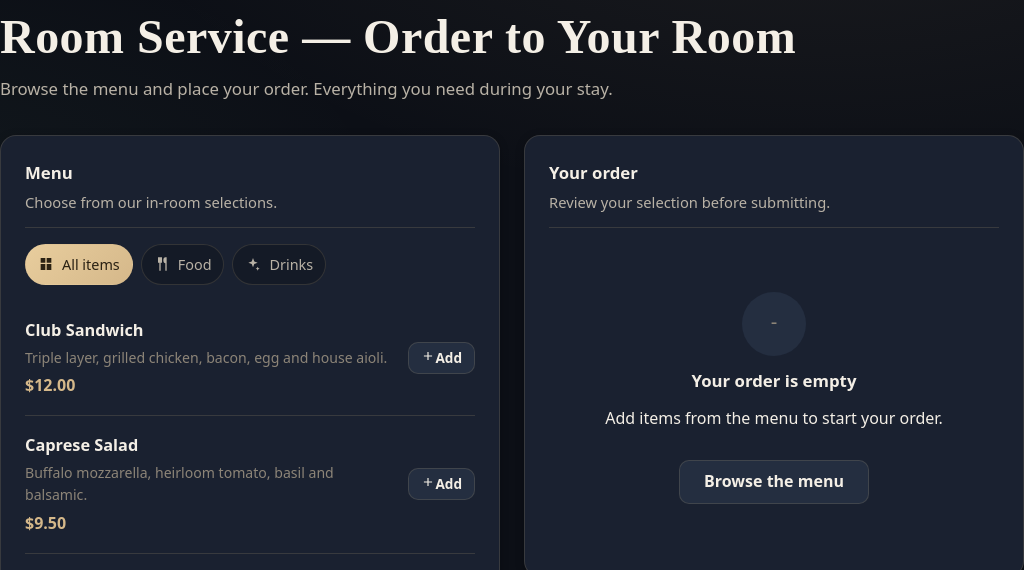
Test case: QRRoomServiceView › shows a confirmation step before submitting
Click the 1st button "Add".
click(442, 358)  # box x1=408 y1=342 x2=475 y2=374
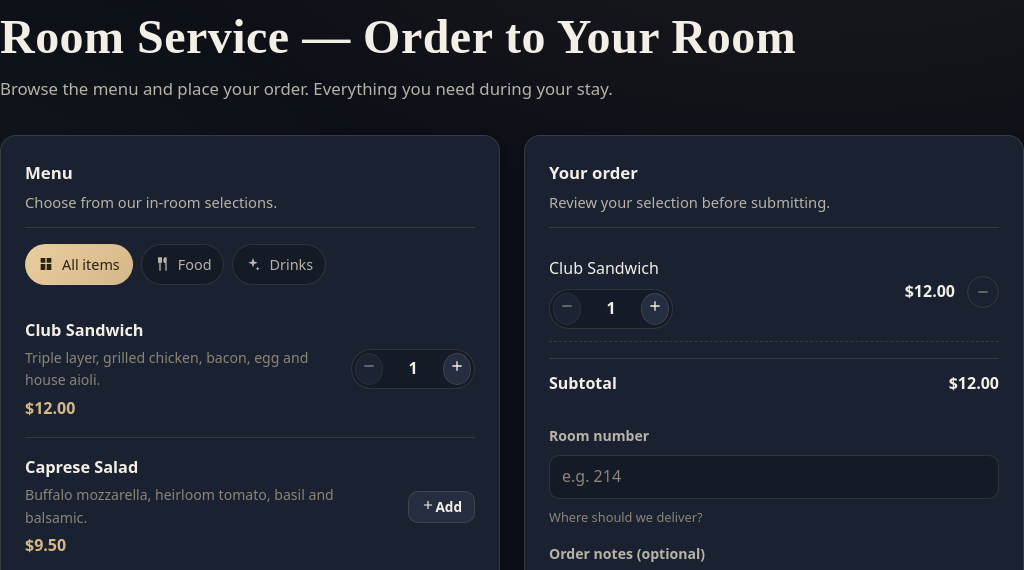
Type "305" into the number field labelled "Room number".
click(774, 477); type("305")  # box x1=549 y1=455 x2=999 y2=499
(page scrolled)
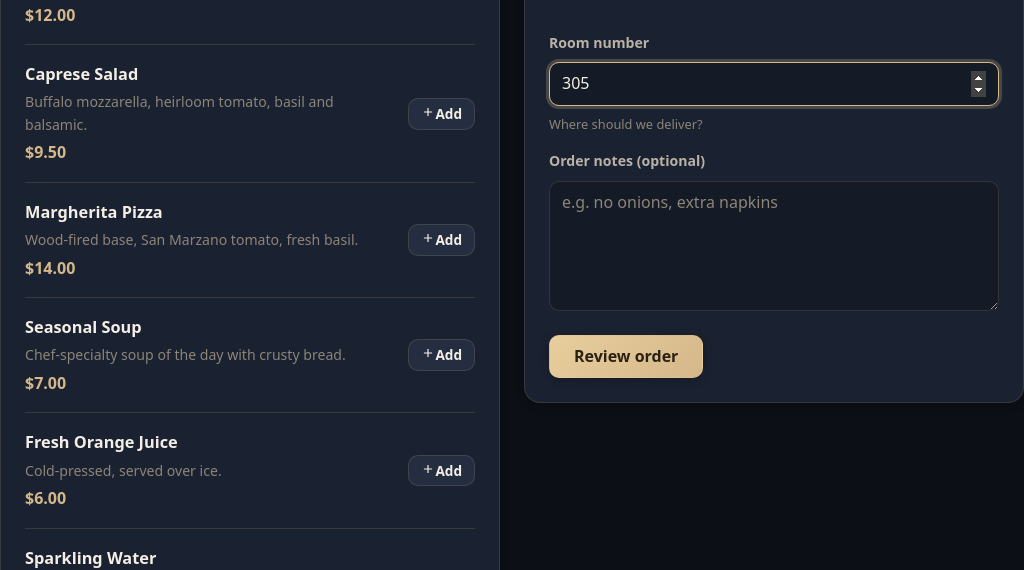
Click the button "Review order".
click(626, 356)  # box x1=549 y1=335 x2=703 y2=378
(page scrolled)
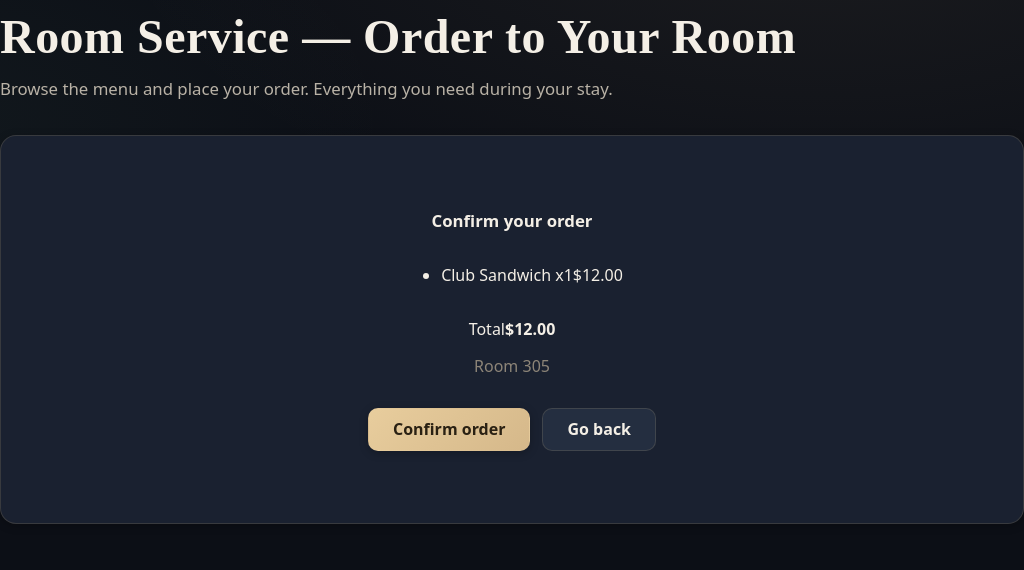
Expected: the dialog "Confirm your order" is shown, x1=368 y1=209 x2=656 y2=452
Expected: the text "Club Sandwich x1" is shown, x1=441 y1=264 x2=573 y2=286
Expected: the text "$12.00" is shown 2 times, x1=573 y1=264 x2=623 y2=286; x1=505 y1=318 x2=555 y2=340
